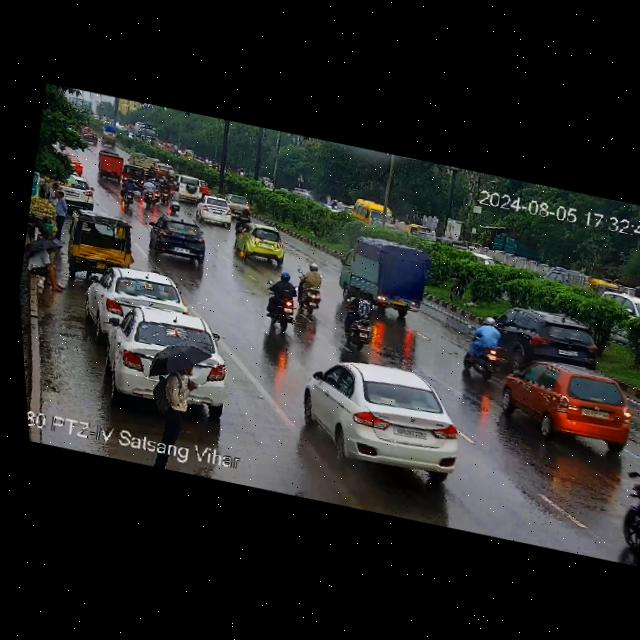car: (300, 360, 476, 488), (106, 301, 242, 417), (503, 358, 640, 452), (482, 302, 598, 366), (90, 264, 193, 319), (65, 216, 141, 267), (147, 212, 212, 263), (233, 221, 290, 266), (50, 176, 103, 213), (194, 192, 234, 226), (599, 293, 640, 324), (115, 164, 150, 191), (177, 174, 208, 203), (95, 153, 126, 180), (223, 195, 255, 220)
motorcycle: (257, 267, 304, 331), (466, 316, 507, 378), (336, 289, 378, 349), (292, 262, 334, 318), (619, 476, 640, 552)
person: (145, 347, 203, 472), (27, 238, 69, 296), (44, 189, 76, 246)
truck: (336, 237, 436, 319)
